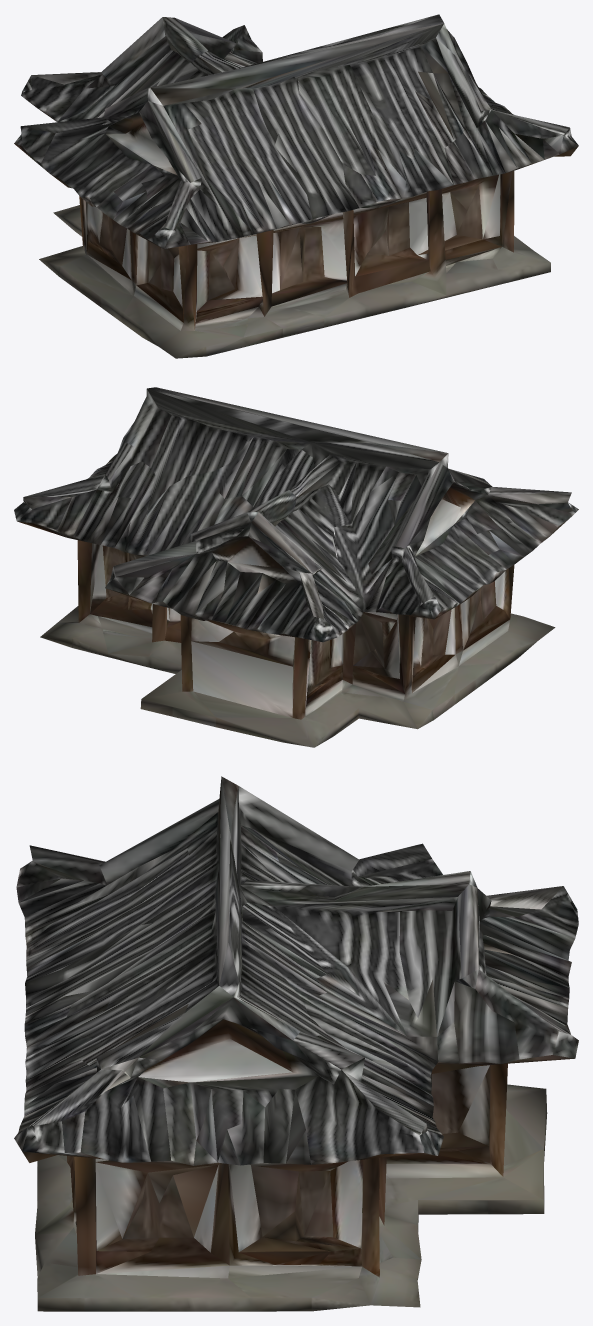
Rendered from giwa_lod1.glb.
The picture shows the model from 3 angles, top to bottom: view 1: azimuth 30°, elevation 25°; view 2: azimuth 150°, elevation 25°; view 3: azimuth 270°, elevation 25°; orthographic projection. The views are drawn at different scales.
Visible parts, largest first — view 1: tripo_node_5c74d301-62bb-4bfb-9970-12081cfecb79; view 2: tripo_node_5c74d301-62bb-4bfb-9970-12081cfecb79; view 3: tripo_node_5c74d301-62bb-4bfb-9970-12081cfecb79.
Boxes of the visible parts, left/top/right/bottom form: tripo_node_5c74d301-62bb-4bfb-9970-12081cfecb79: left=14, top=14, right=578, bottom=358; tripo_node_5c74d301-62bb-4bfb-9970-12081cfecb79: left=14, top=387, right=578, bottom=747; tripo_node_5c74d301-62bb-4bfb-9970-12081cfecb79: left=14, top=776, right=578, bottom=1311.
Bounding box in the file's own units: 0.978 × 0.4809 × 0.8024.
Materials: 1 (1 with a texture image).
